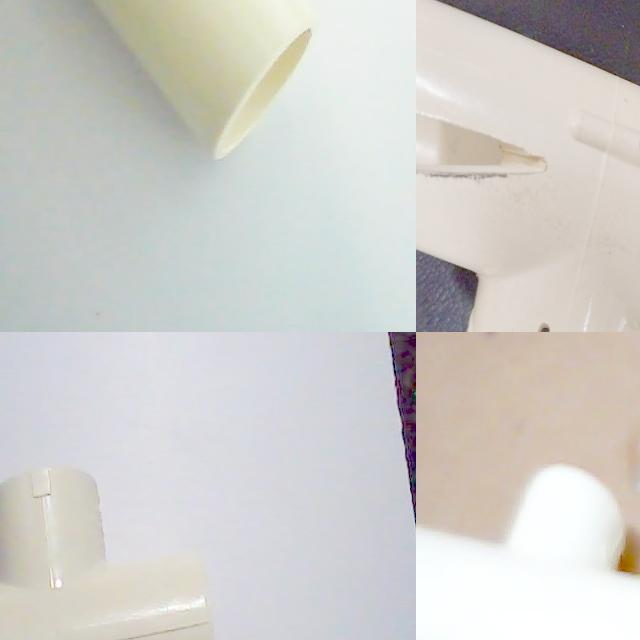Defective: (535, 79, 574, 256)
T Joint: (474, 71, 640, 332), (416, 464, 640, 640), (89, 0, 319, 163), (0, 467, 216, 640)
